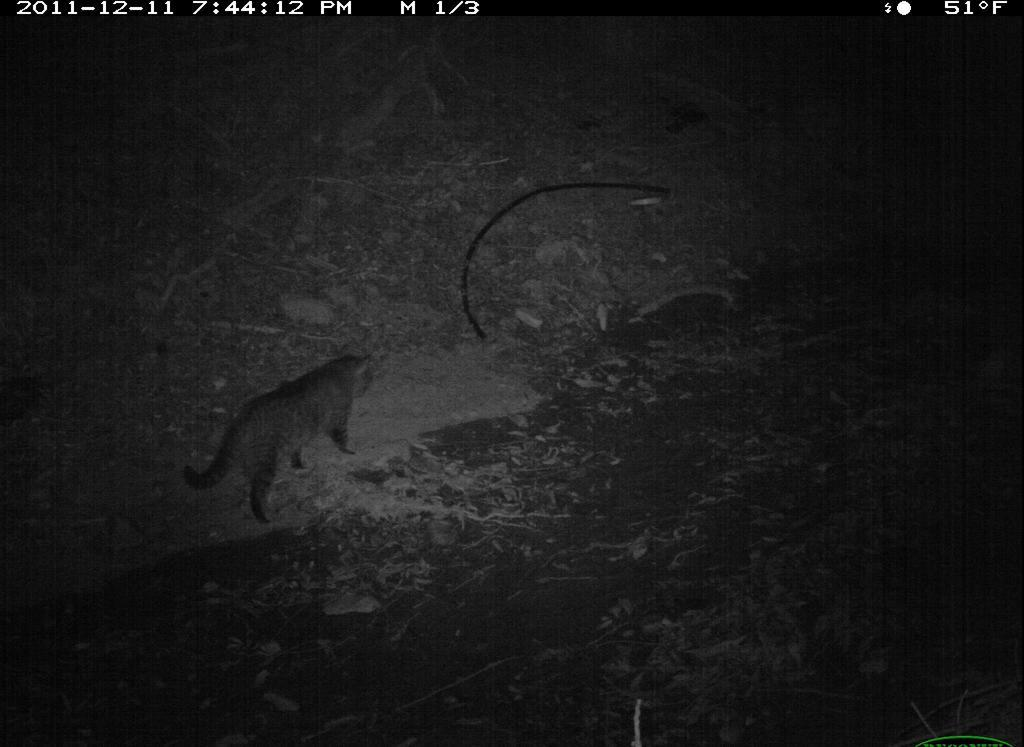cat: (180, 338, 381, 524)
